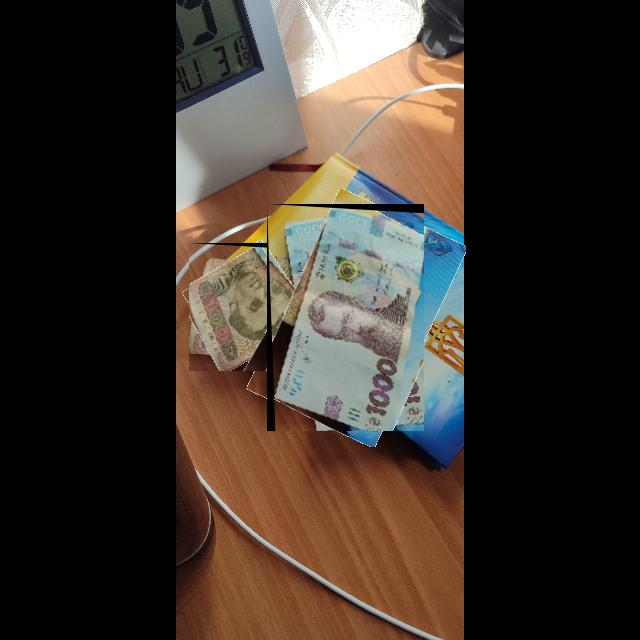1000uah: (273, 208, 425, 432)
100uah: (189, 247, 308, 372)
